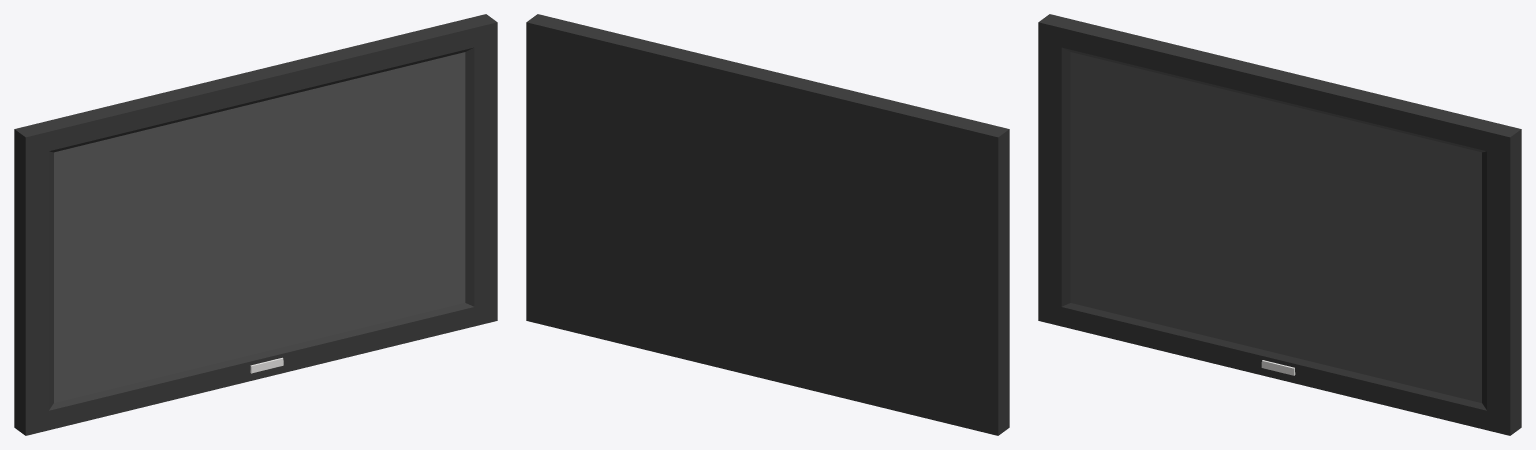
3 renders of one model, left to right at view 1: azimuth 30°, elevation 25°; view 2: azimuth 150°, elevation 25°; view 3: azimuth 330°, elevation 25°, orthographic.
Visible parts, largest first — view 1: TV_2; view 2: TV_2; view 3: TV_2.
Part boxes in pixels (bbox=[...]): TV_2: bbox=[14, 14, 497, 435]; TV_2: bbox=[526, 14, 1009, 435]; TV_2: bbox=[1038, 14, 1521, 435].
Size of the model in its own units: 220 by 9.99 by 133.
